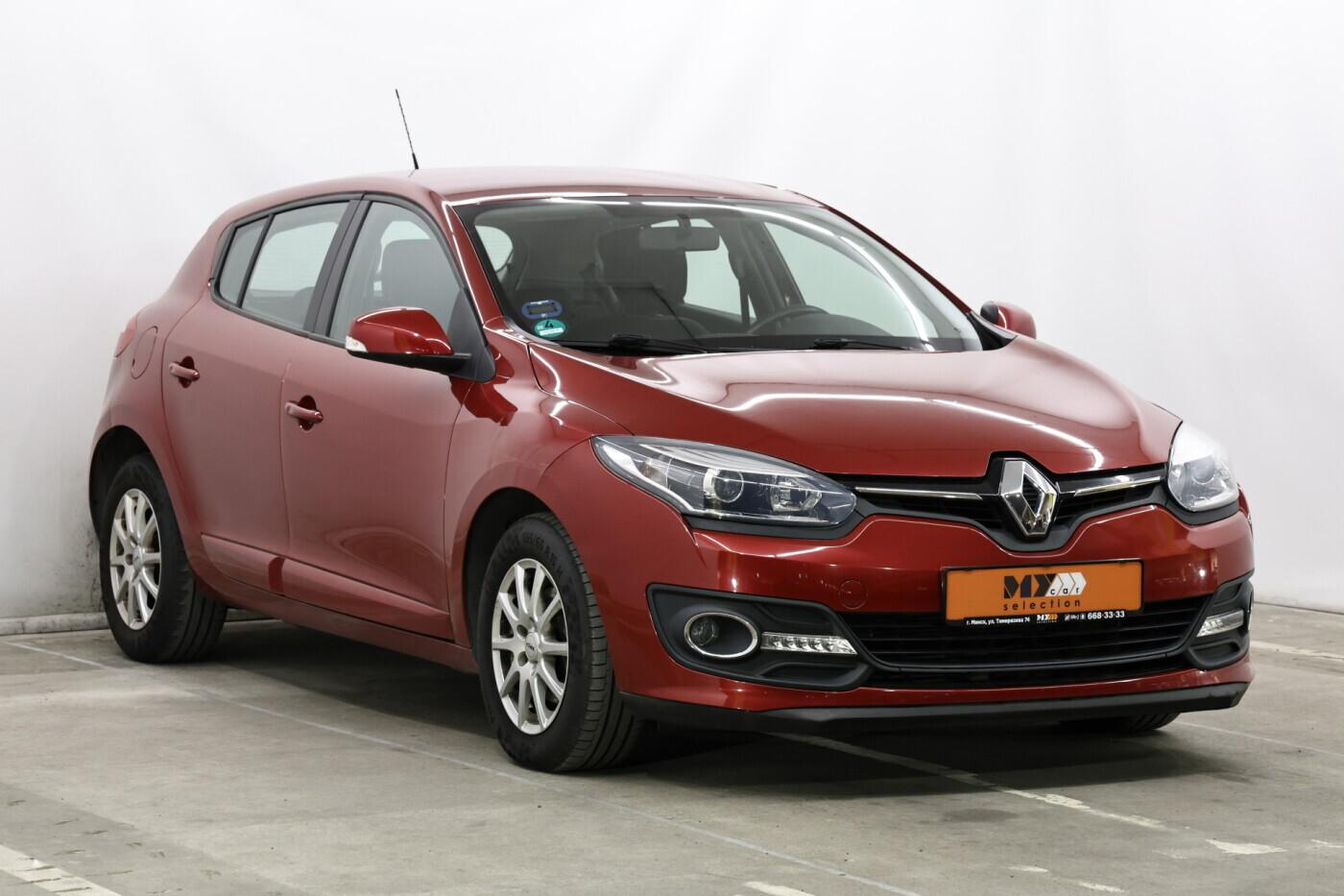Megane_2012-2014: (85, 160, 1278, 785)
